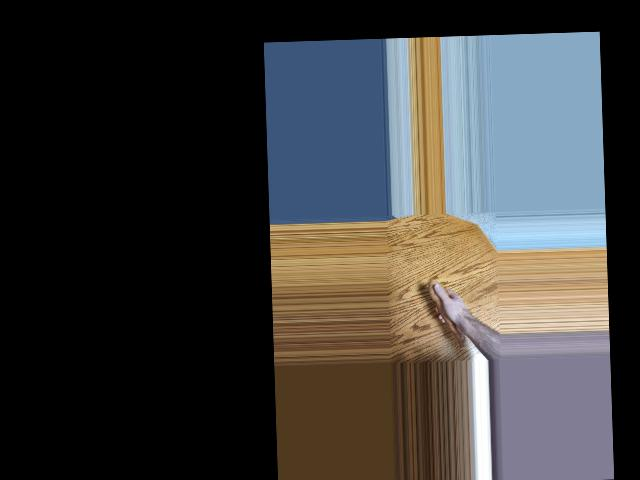sweet_potato: (426, 277, 469, 353)
